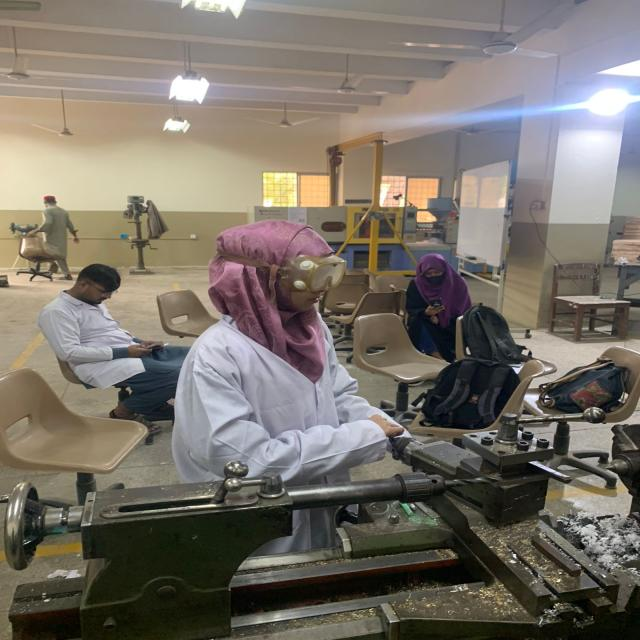googles: (286, 255, 350, 293)
labcoat: (168, 303, 417, 559), (34, 286, 158, 391)
